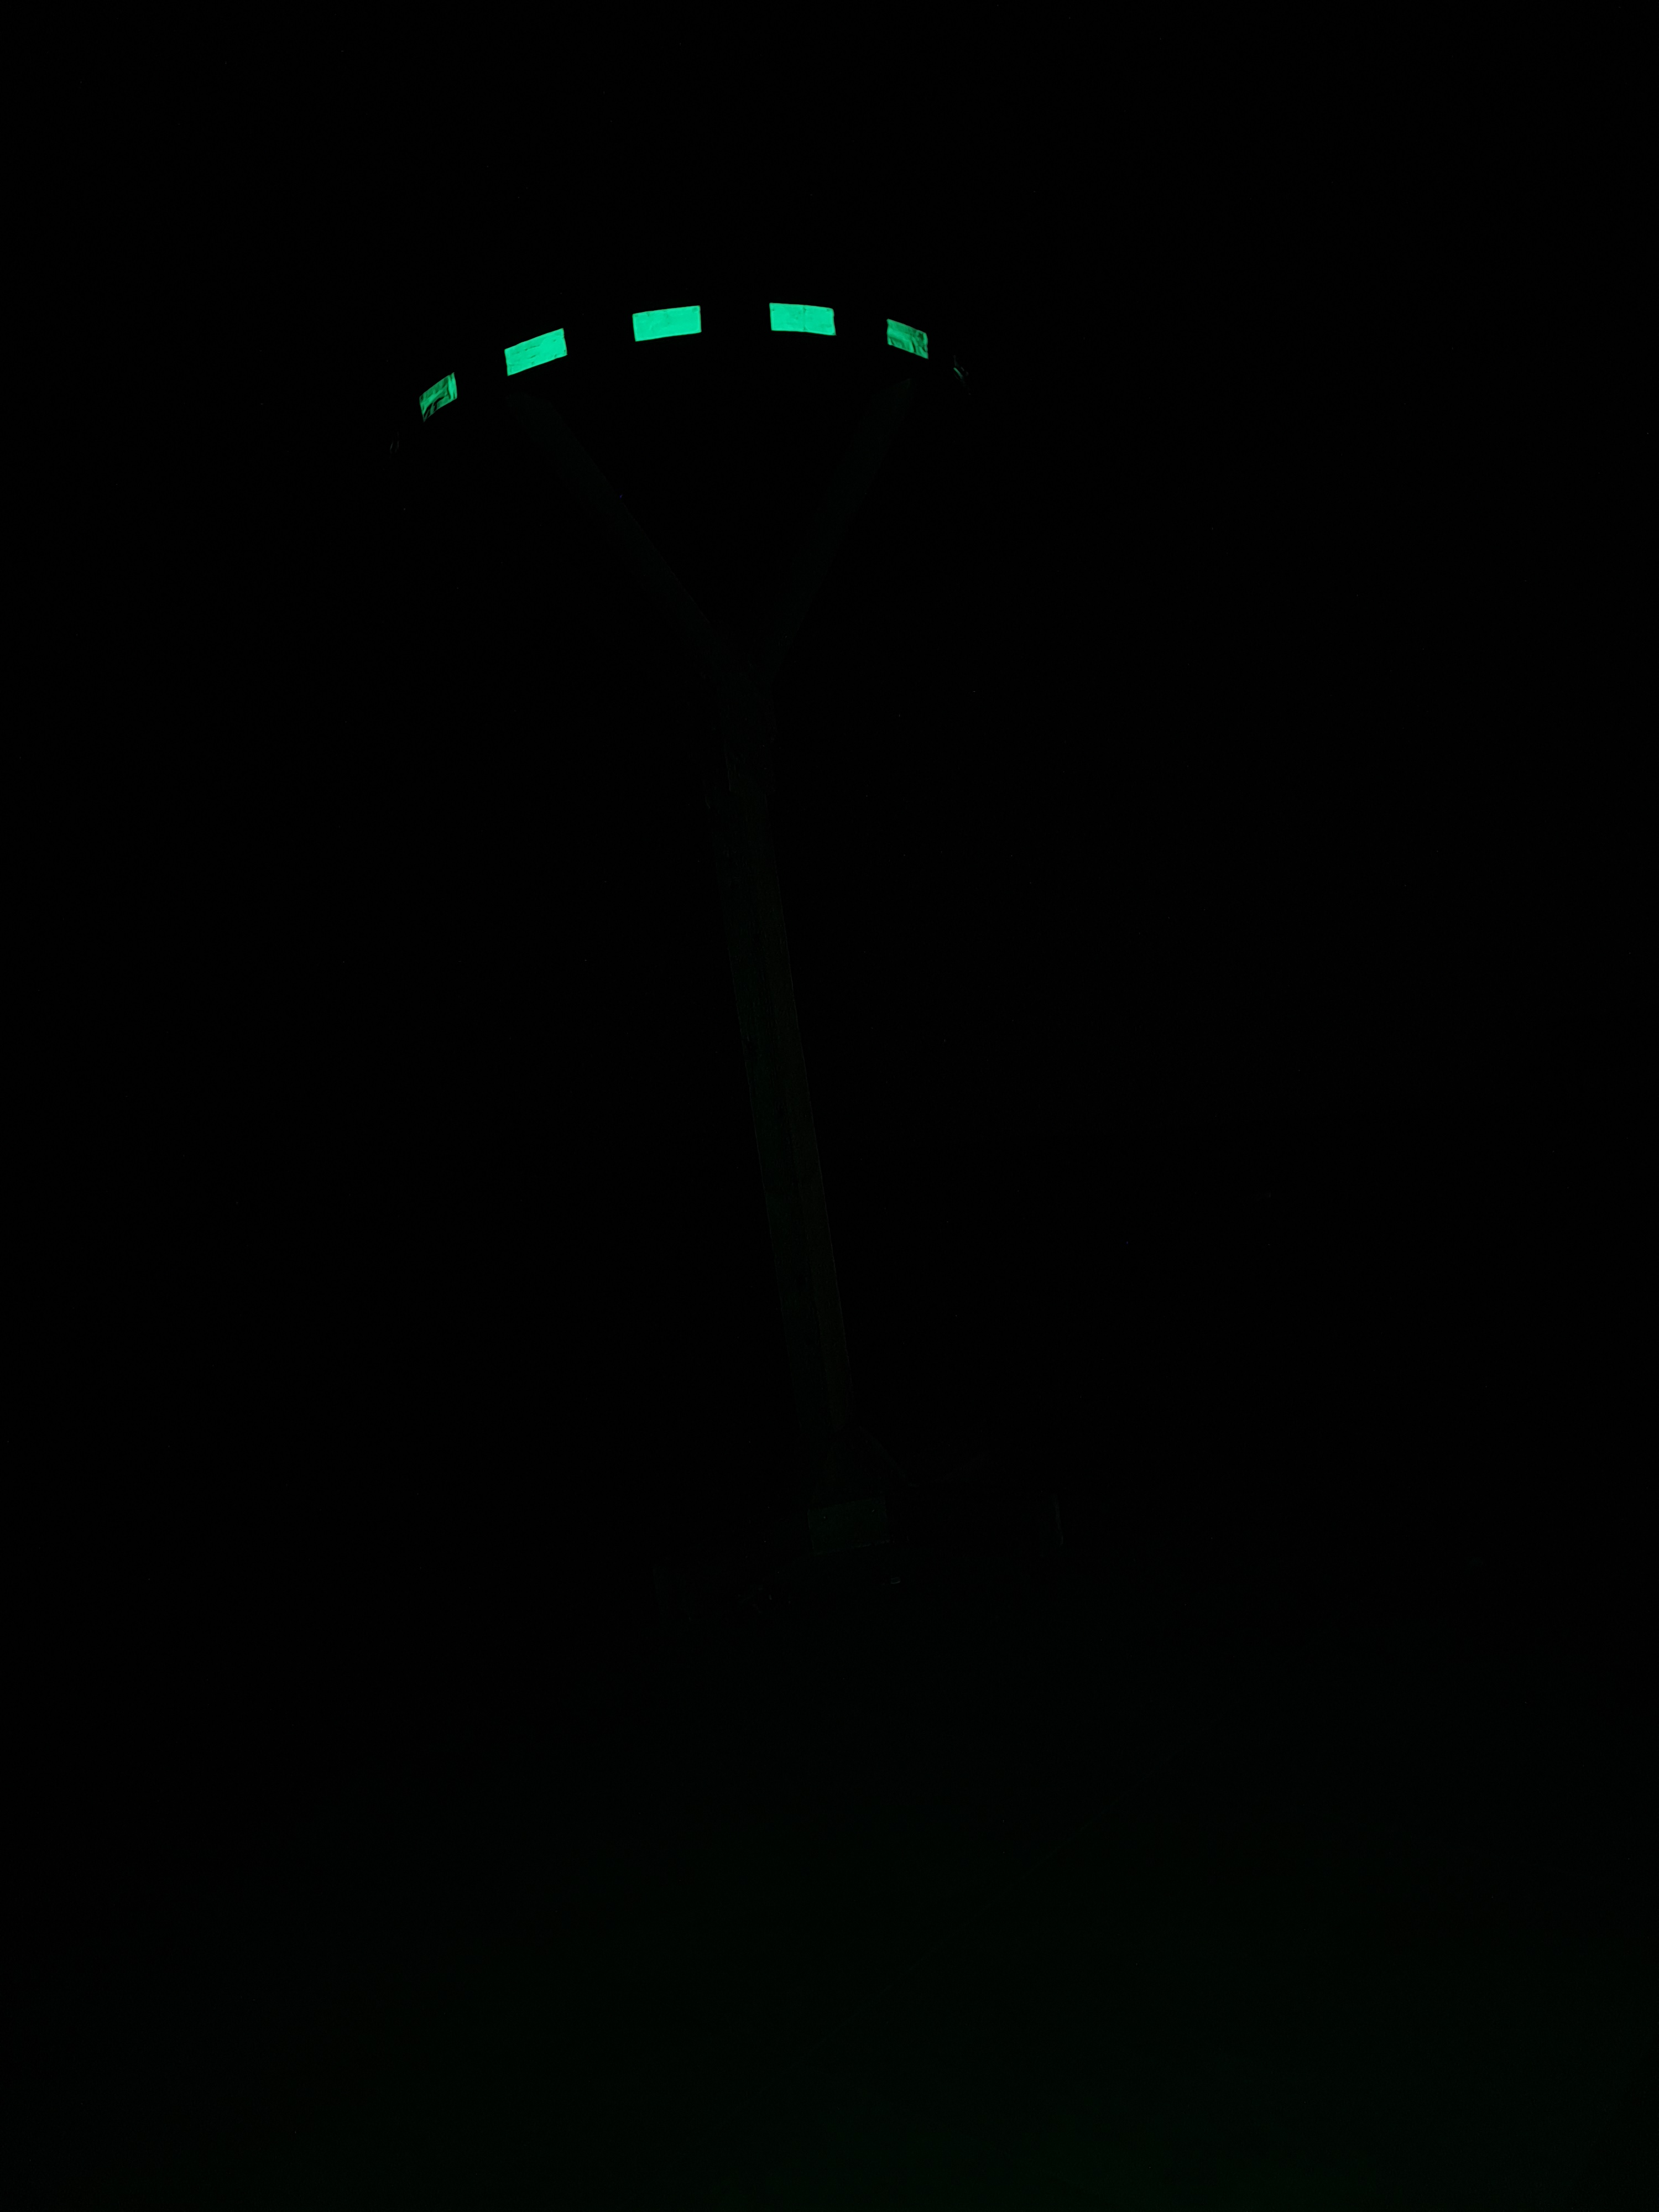hoop: (411, 298, 931, 420)
